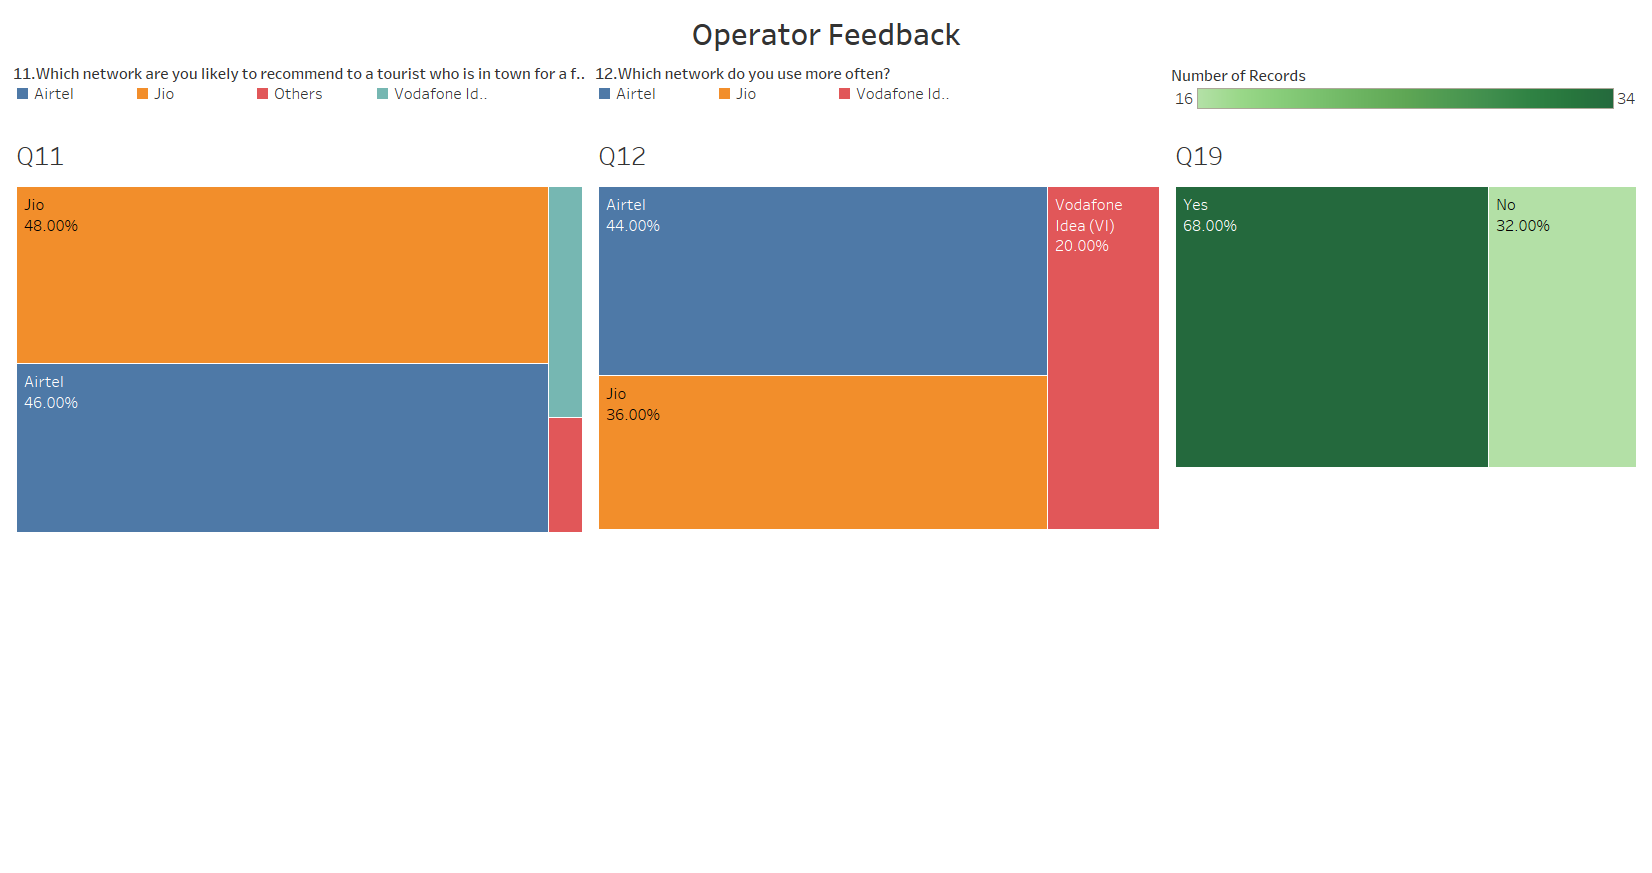

The page's visual inventory and layout, read from the dashboard file:
{"tool":"tableau","page":{"name":"Operator Feedback","canvas":[1000,1000],"units":"permille","ordinal":2},"visuals":[{"type":"title","box":[4.8,9.2,990.3,56.1]},{"type":"legend","title":"Q11","param":"[federated.03yo3nc1uq0xte18hni1j0jtv1ar].[none:11.Which network are you likely t","box":[4.8,65.3,352.3,81]},{"type":"legend","title":"Q12","param":"[federated.03yo3nc1uq0xte18hni1j0jtv1ar].[none:12.Which network do you use more ","box":[357.1,65.3,349.3,81]},{"type":"legend","title":"Q19","param":"[federated.03yo3nc1uq0xte18hni1j0jtv1ar].[sum:Number of Records:qk]","box":[706.4,65.3,288.7,81]},{"type":"worksheet","title":"Q11","mark":"Automatic","box":[4.8,146.3,352.3,844.6]},{"type":"worksheet","title":"Q12","mark":"Automatic","box":[357.1,146.3,349.5,844.6]},{"type":"worksheet","title":"Q19","mark":"Automatic","box":[706.6,146.3,288.5,844.6]}]}

Visuals, with their boxes on the dashboard's canvas, which has no fixed pixel size, in thousandths of its width and height (x1, y1, x2, y2). These are canvas units, not pixel positions in the 1652x873 screenshot, which may show the page scaled, cropped or inside an application window:
title: rect(5, 9, 995, 65)
"Q11" legend: rect(5, 65, 357, 146)
"Q12" legend: rect(357, 65, 706, 146)
"Q19" legend: rect(706, 65, 995, 146)
"Q11" worksheet: rect(5, 146, 357, 991)
"Q12" worksheet: rect(357, 146, 707, 991)
"Q19" worksheet: rect(707, 146, 995, 991)
